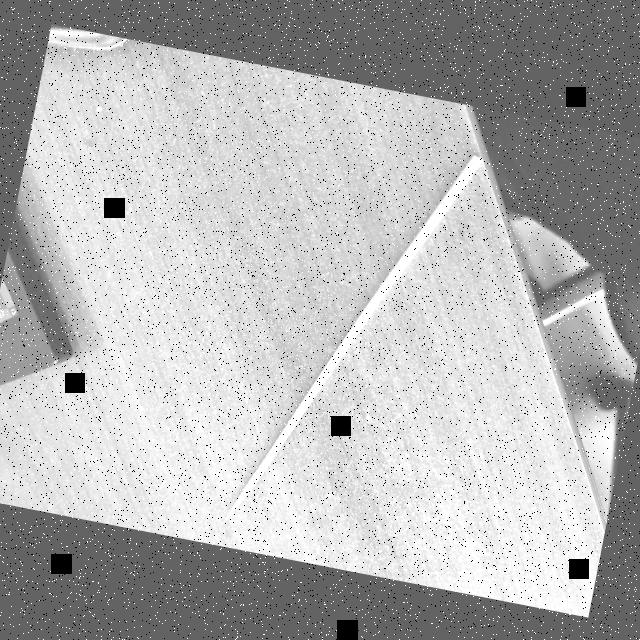stick: (208, 98, 508, 565)
